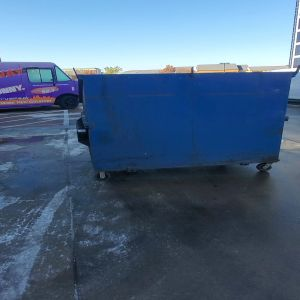Dumpster: (75, 71, 300, 183)
